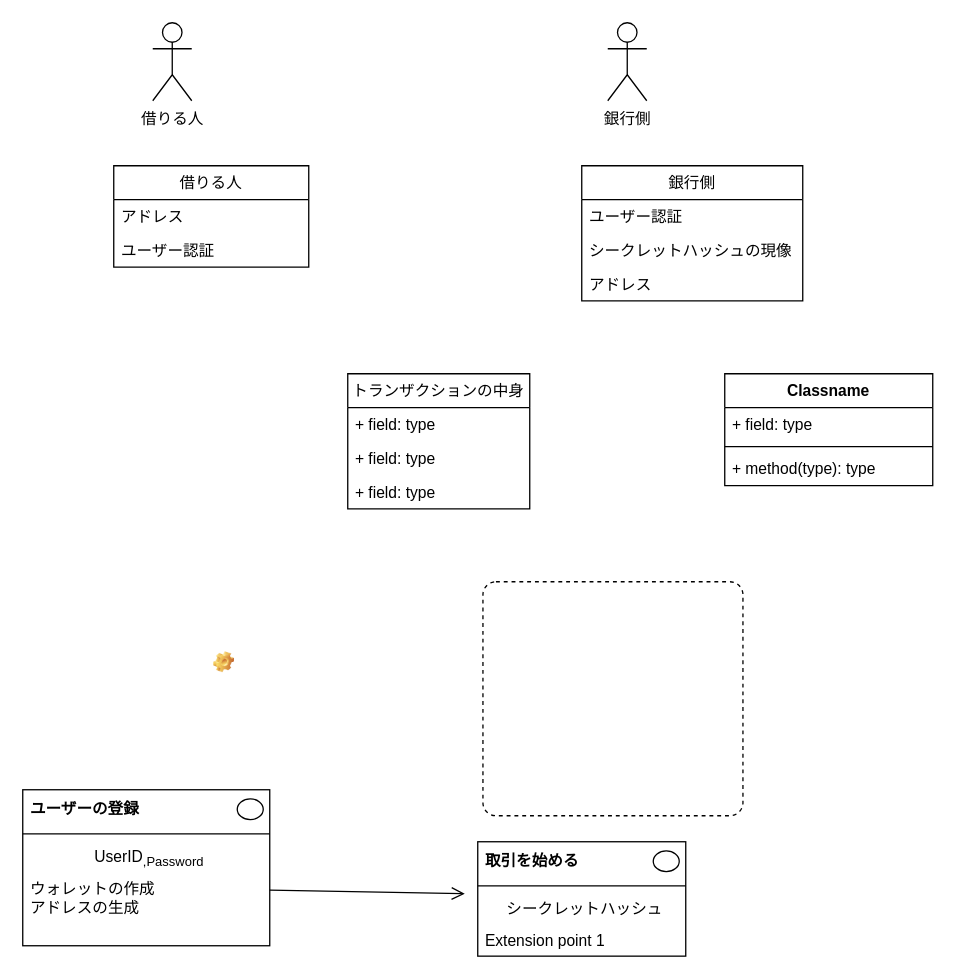
Some shapes in this 955 by 979 pixel diagram are drawn without their labels. Here are the shapes that lost their labels. From the top down, the centre of each, then its label:
the point at 321,662: ブロックの時間オラクル
the point at 612,698: 銀行側 ユーザー登録は不要 必要なもの ウォレット シークレットハッシュの現像 取引のページ 取引の相手情報 利子の還元先アドレス チャネル作成権限
